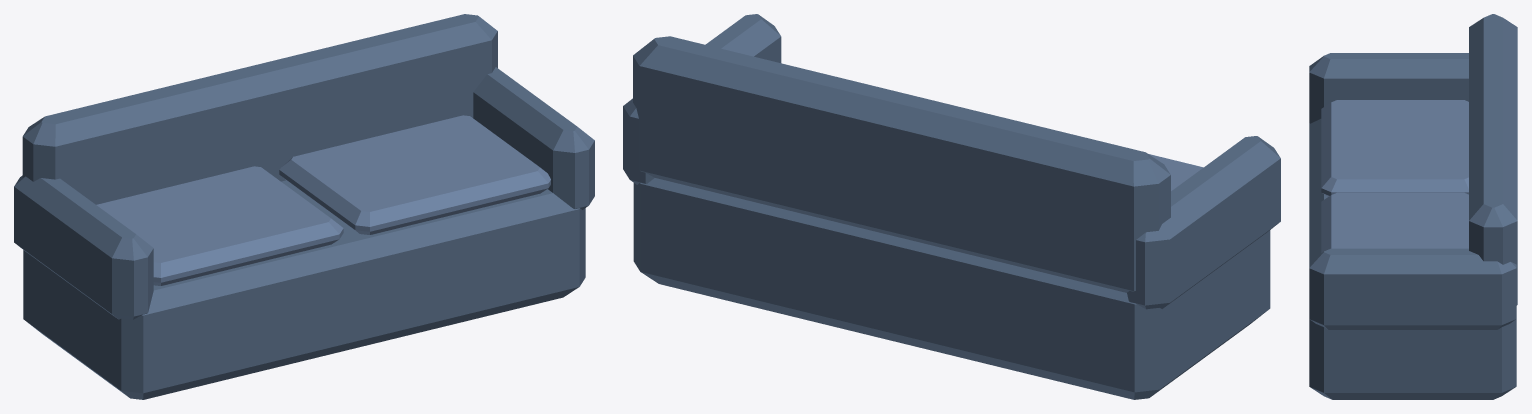
The model's file is sofa.glb.
3 views of the same model, side by side, from view 1: azimuth 30°, elevation 25°; view 2: azimuth 150°, elevation 25°; view 3: azimuth 270°, elevation 25° (orthographic). The views are drawn at different scales.
Parts seen in each view (by area): view 1: sofa; view 2: sofa; view 3: sofa.
Part boxes in pixels (x1=…): sofa: x1=14, y1=14, x2=594, y2=399; sofa: x1=623, y1=14, x2=1280, y2=399; sofa: x1=1309, y1=14, x2=1517, y2=399.
Bounding box in the file's own units: 2.08 × 0.87 × 0.855.
